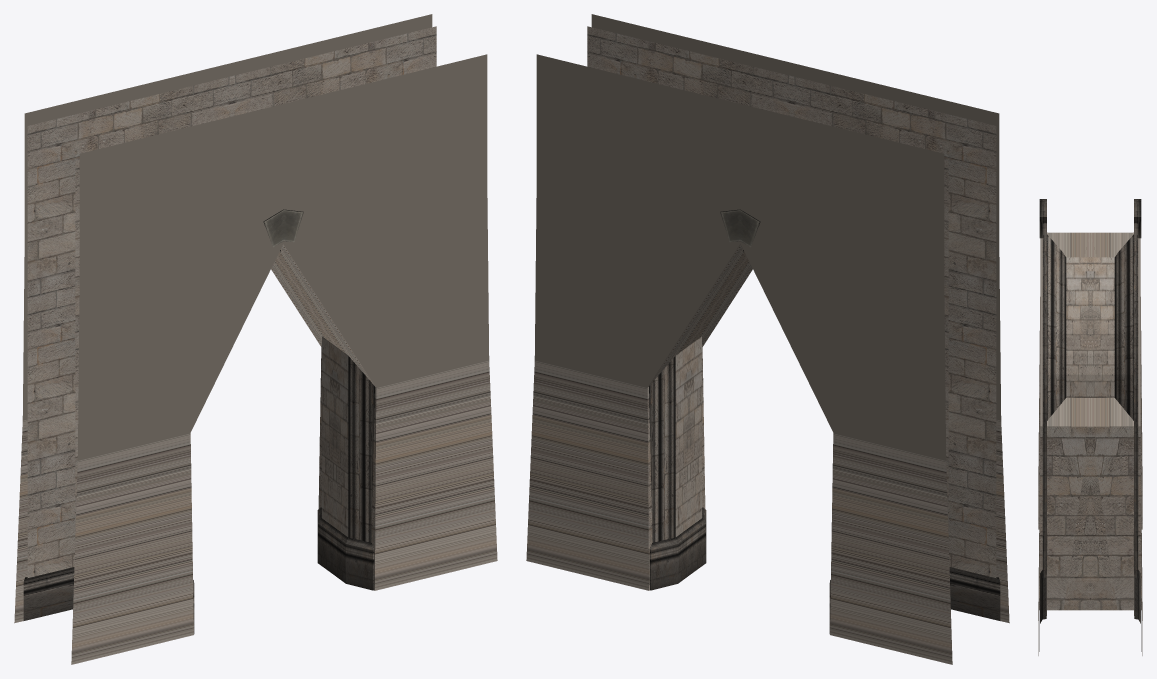
The model's file is ArchwayHall.fbx.
3 views of the same model, side by side, from view 1: azimuth 30°, elevation 25°; view 2: azimuth 150°, elevation 25°; view 3: azimuth 270°, elevation 25° (orthographic). The views are drawn at different scales.
Parts seen in each view (by area): view 1: WindowArch_Stonecolmesh.001, WindowArch_Stone; view 2: WindowArch_Stonecolmesh.001, WindowArch_Stone; view 3: WindowArch_Stonecolmesh.001, WindowArch_Stone.
Boxes of the visible parts, bbox=[...] form: WindowArch_Stonecolmesh.001: bbox=[14, 14, 497, 664]; WindowArch_Stone: bbox=[23, 26, 436, 633]; WindowArch_Stonecolmesh.001: bbox=[526, 14, 1009, 664]; WindowArch_Stone: bbox=[587, 26, 1000, 633]; WindowArch_Stonecolmesh.001: bbox=[1038, 232, 1142, 655]; WindowArch_Stone: bbox=[1039, 199, 1141, 651].
Bounding box in the file's own units: 503 × 574 × 116.
